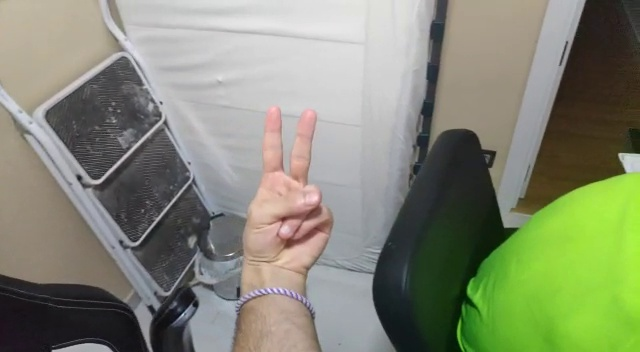Peace: (236, 103, 331, 275)
